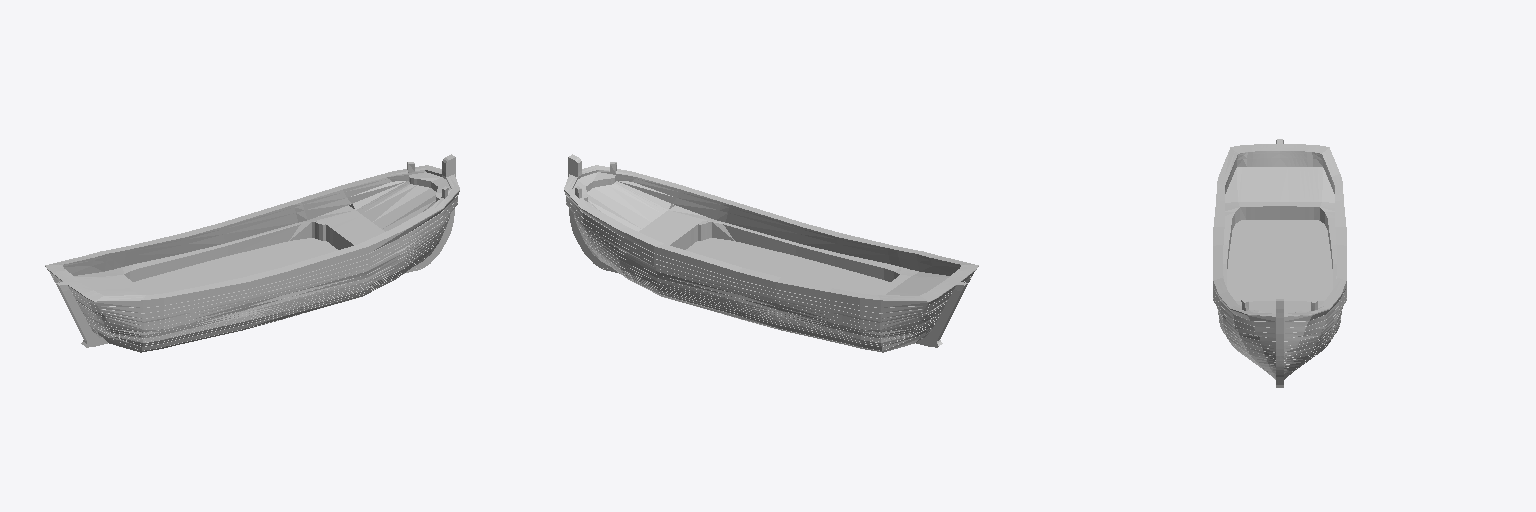
File: FragataNoSubdiv.obj
3 views of the same model, side by side, from view 1: azimuth 30°, elevation 25°; view 2: azimuth 150°, elevation 25°; view 3: azimuth 270°, elevation 25° (orthographic).
Parts seen in each view (by area): view 1: Casco_repo; view 2: Casco_repo; view 3: Casco_repo.
Part boxes in pixels (x1,y1,x2,y2): Casco_repo: (45, 154, 459, 352); Casco_repo: (564, 154, 978, 352); Casco_repo: (1213, 139, 1346, 387).
Bounding box in the file's own units: 1.69 × 0.4229 × 0.4908.